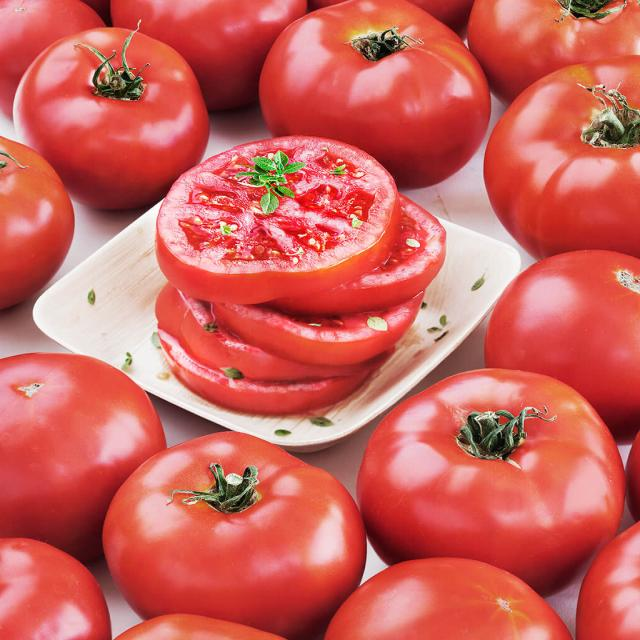Tomato: (357, 369, 625, 592), (104, 431, 367, 640), (260, 0, 490, 188), (156, 136, 399, 304), (14, 28, 209, 209), (0, 352, 166, 561), (484, 55, 640, 259), (486, 250, 640, 437), (111, 0, 308, 110), (324, 558, 572, 640), (212, 292, 424, 364), (0, 538, 111, 640)
